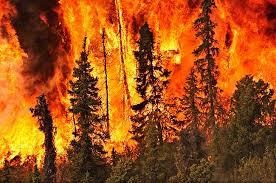fire: (29, 0, 263, 153)
